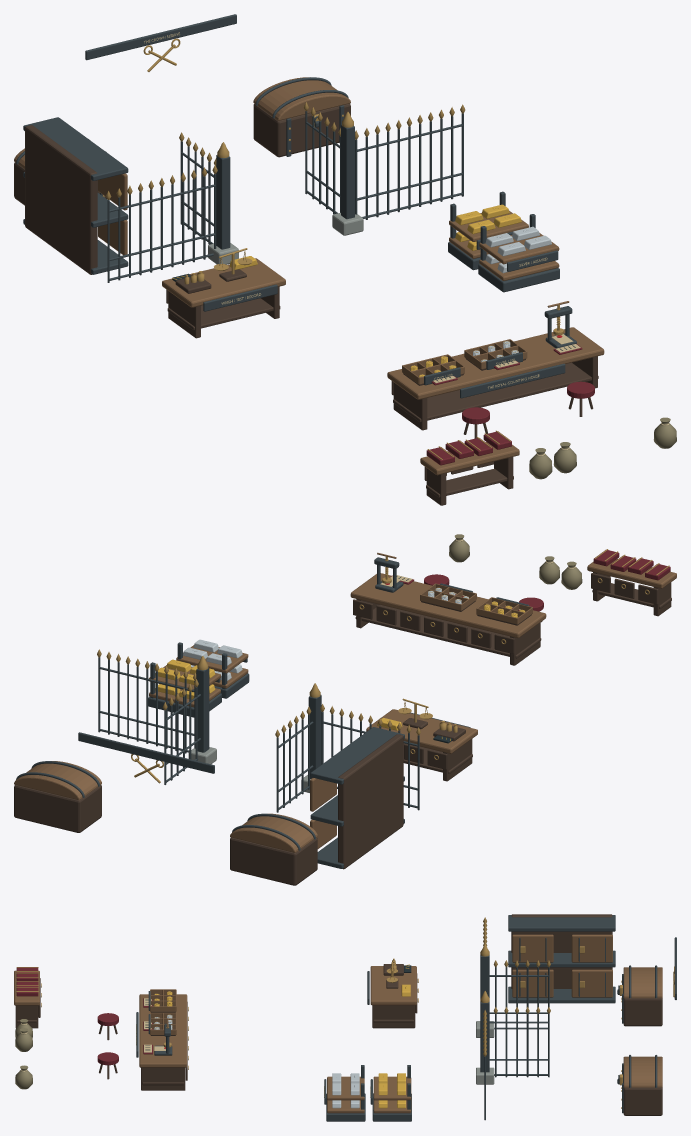
The model's file is counting_house.glb.
3 renders of one model, top to bottom at view 1: azimuth 30°, elevation 25°; view 2: azimuth 150°, elevation 25°; view 3: azimuth 270°, elevation 25°, orthographic. The views are drawn at different scales.
Parts seen in each view (by area): view 1: Crafted assembly 005, Crafted assembly 001, Crafted assembly 006, Crafted assembly 003, Crafted assembly 008, Crafted assembly 007, Crafted assembly 002, Crafted assembly 017, Crafted assembly 018, Crafted assembly 012, Crafted assembly 010, Crafted assembly 000 (+1 smaller); view 2: Crafted assembly 005, Crafted assembly 001, Crafted assembly 006, Crafted assembly 003, Crafted assembly 008, Crafted assembly 007, Crafted assembly 002, Crafted assembly 017, Crafted assembly 018, Crafted assembly 012, Crafted assembly 010; view 3: Crafted assembly 006, Crafted assembly 001, Crafted assembly 005, Crafted assembly 008, Crafted assembly 003, Crafted assembly 002, Crafted assembly 017, Crafted assembly 007, Crafted assembly 018, Crafted assembly 012, Crafted assembly 010, Crafted assembly 000.
Part boxes in pixels (bbox=[...]): Crafted assembly 005: bbox=[14, 125, 598, 505]; Crafted assembly 001: bbox=[16, 14, 576, 398]; Crafted assembly 006: bbox=[14, 148, 604, 475]; Crafted assembly 003: bbox=[255, 77, 559, 292]; Crafted assembly 008: bbox=[253, 77, 559, 280]; Crafted assembly 007: bbox=[253, 103, 350, 157]; Crafted assembly 002: bbox=[103, 38, 563, 459]; Crafted assembly 017: bbox=[426, 344, 594, 465]; Crafted assembly 018: bbox=[529, 417, 676, 479]; Crafted assembly 012: bbox=[485, 226, 551, 273]; Crafted assembly 010: bbox=[455, 204, 521, 250]; Crafted assembly 000: bbox=[208, 212, 363, 264]; Crafted assembly 005: bbox=[230, 572, 671, 885]; Crafted assembly 001: bbox=[78, 557, 529, 868]; Crafted assembly 006: bbox=[230, 552, 676, 852]; Crafted assembly 003: bbox=[16, 642, 249, 797]; Crafted assembly 008: bbox=[14, 645, 248, 800]; Crafted assembly 007: bbox=[14, 784, 101, 832]; Crafted assembly 002: bbox=[131, 549, 669, 783]; Crafted assembly 017: bbox=[390, 550, 670, 611]; Crafted assembly 018: bbox=[449, 534, 582, 589]; Crafted assembly 012: bbox=[183, 639, 242, 680]; Crafted assembly 010: bbox=[155, 659, 215, 699]; Crafted assembly 006: bbox=[14, 934, 662, 1067]; Crafted assembly 001: bbox=[136, 915, 676, 1083]; Crafted assembly 005: bbox=[15, 914, 662, 1090]; Crafted assembly 008: bbox=[327, 1056, 662, 1113]; Crafted assembly 003: bbox=[324, 1055, 657, 1121]; Crafted assembly 002: bbox=[16, 917, 674, 1088]; Crafted assembly 017: bbox=[16, 967, 152, 1065]; Crafted assembly 007: bbox=[623, 1087, 662, 1115]; Crafted assembly 018: bbox=[15, 1019, 32, 1089]; Crafted assembly 012: bbox=[332, 1073, 359, 1108]; Crafted assembly 010: bbox=[378, 1073, 405, 1108]; Crafted assembly 000: bbox=[476, 1021, 494, 1084].
Size of what is drawn, in the model's own units: 10.95 by 3.54 by 22.87.
